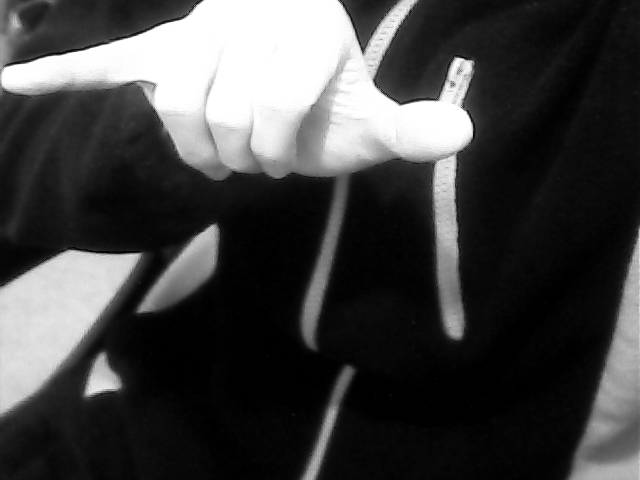aloha: (1, 1, 476, 180)
